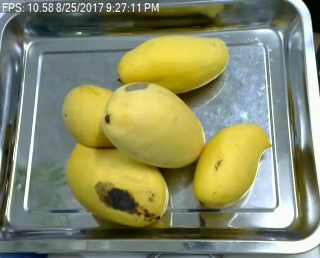Mango: (63, 142, 169, 226), (103, 81, 205, 168), (193, 124, 269, 210), (118, 35, 228, 92), (62, 84, 128, 150)
